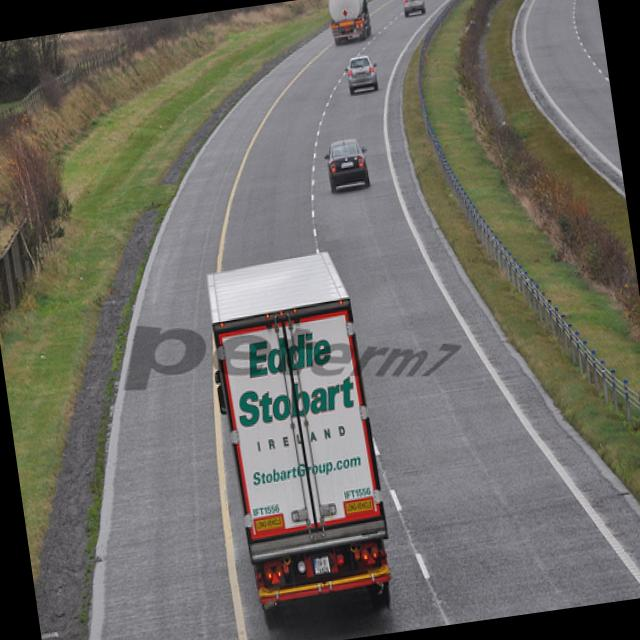Vehicle: (208, 252, 396, 640), (321, 132, 372, 194), (323, 0, 375, 45), (343, 53, 381, 94), (400, 0, 427, 17)
